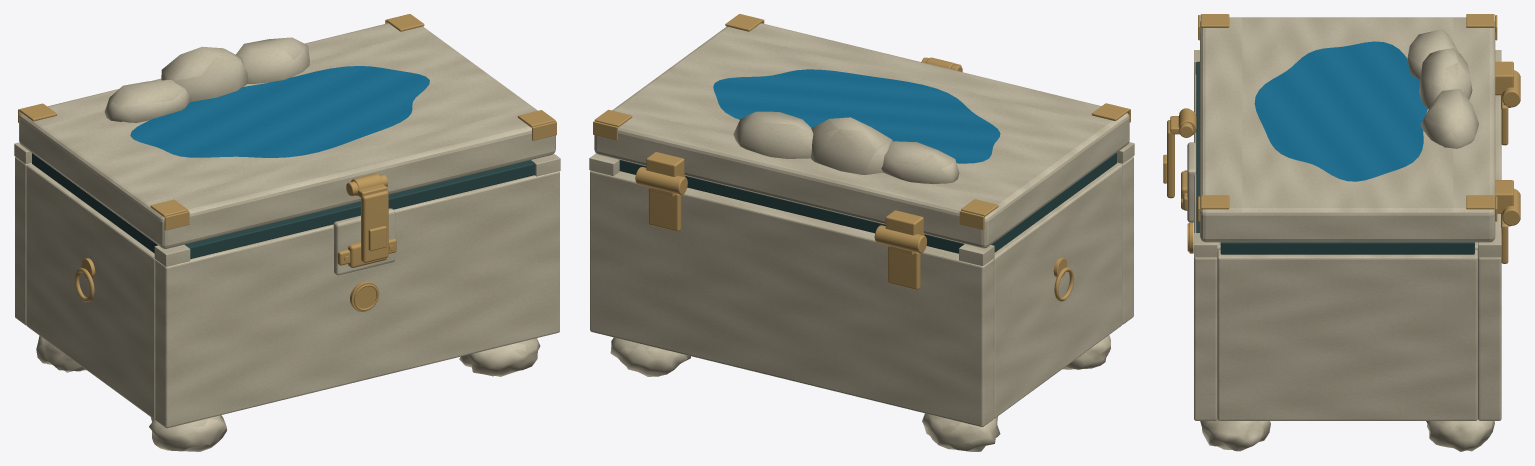
File: north-macedonia.glb
The picture shows the model from 3 angles, left to right: view 1: azimuth 30°, elevation 25°; view 2: azimuth 150°, elevation 25°; view 3: azimuth 270°, elevation 25°; orthographic projection.
Visible parts, largest first — view 1: Limestone / long wall, Lid / polished slab, Limestone / end wall, Lake / continuous blue inset, Shore / irregular limestone, Mineral seam / long, Ridge / limestone 1, Ridge / limestone 0, Ridge / limestone 2, Limestone foot, Limestone / long wall.001, Limestone foot.002 (+6 smaller); view 2: Limestone / long wall.001, Lid / polished slab, Limestone / end wall, Lake / continuous blue inset, Shore / irregular limestone, Ridge / limestone 1, Ridge / limestone 2, Mineral seam / long.001, Ridge / limestone 0, Limestone foot.001, Limestone / long wall, Limestone foot.003 (+10 smaller); view 3: Limestone / end wall.001, Lid / polished slab, Lake / continuous blue inset, Shore / irregular limestone, Limestone / long wall.001, Limestone / long wall, Mineral seam / side.001, Ridge / limestone 2, Ridge / limestone 1, Limestone foot.002, Limestone foot.003, Ridge / limestone 0 (+13 smaller).
Part boxes in pixels (left/top/right/bottom): Limestone / long wall: left=155, top=171, right=559, bottom=428; Lid / polished slab: left=19, top=23, right=555, bottom=248; Limestone / end wall: left=26, top=164, right=155, bottom=419; Lake / continuous blue inset: left=130, top=66, right=429, bottom=157; Shore / irregular limestone: left=105, top=57, right=450, bottom=168; Mineral seam / long: left=184, top=160, right=535, bottom=258; Ridge / limestone 1: left=161, top=46, right=247, bottom=101; Ridge / limestone 0: left=104, top=79, right=191, bottom=122; Ridge / limestone 2: left=236, top=37, right=309, bottom=84; Limestone foot: left=149, top=415, right=226, bottom=451; Limestone / long wall.001: left=15, top=157, right=31, bottom=325; Limestone foot.002: left=459, top=338, right=540, bottom=376; Limestone / long wall.001: left=590, top=170, right=993, bottom=426; Lid / polished slab: left=594, top=23, right=1129, bottom=248; Limestone / end wall: left=993, top=163, right=1122, bottom=418; Lake / continuous blue inset: left=713, top=69, right=1000, bottom=163; Shore / irregular limestone: left=690, top=61, right=1022, bottom=173; Ridge / limestone 1: left=810, top=117, right=892, bottom=174; Ridge / limestone 2: left=733, top=111, right=813, bottom=158; Mineral seam / long.001: left=619, top=160, right=964, bottom=253; Ridge / limestone 0: left=881, top=141, right=959, bottom=183; Limestone foot.001: left=922, top=413, right=1000, bottom=451; Limestone / long wall: left=1117, top=156, right=1133, bottom=324; Limestone foot.003: left=610, top=337, right=690, bottom=376; Limestone / end wall.001: left=1217, top=249, right=1477, bottom=420; Lid / polished slab: left=1200, top=17, right=1495, bottom=242; Lake / continuous blue inset: left=1254, top=41, right=1427, bottom=181; Shore / irregular limestone: left=1230, top=32, right=1443, bottom=192; Limestone / long wall.001: left=1478, top=95, right=1501, bottom=420; Limestone / long wall: left=1194, top=74, right=1217, bottom=420; Mineral seam / side.001: left=1220, top=242, right=1474, bottom=254; Ridge / limestone 2: left=1421, top=89, right=1478, bottom=148; Ridge / limestone 1: left=1419, top=48, right=1472, bottom=108; Limestone foot.002: left=1200, top=419, right=1270, bottom=451; Limestone foot.003: left=1426, top=419, right=1494, bottom=451; Ridge / limestone 0: left=1407, top=29, right=1458, bottom=79.
Size of the model in its own units: 3.79 by 2.68 by 2.88.
Materials: 4 (2 with a texture image).
